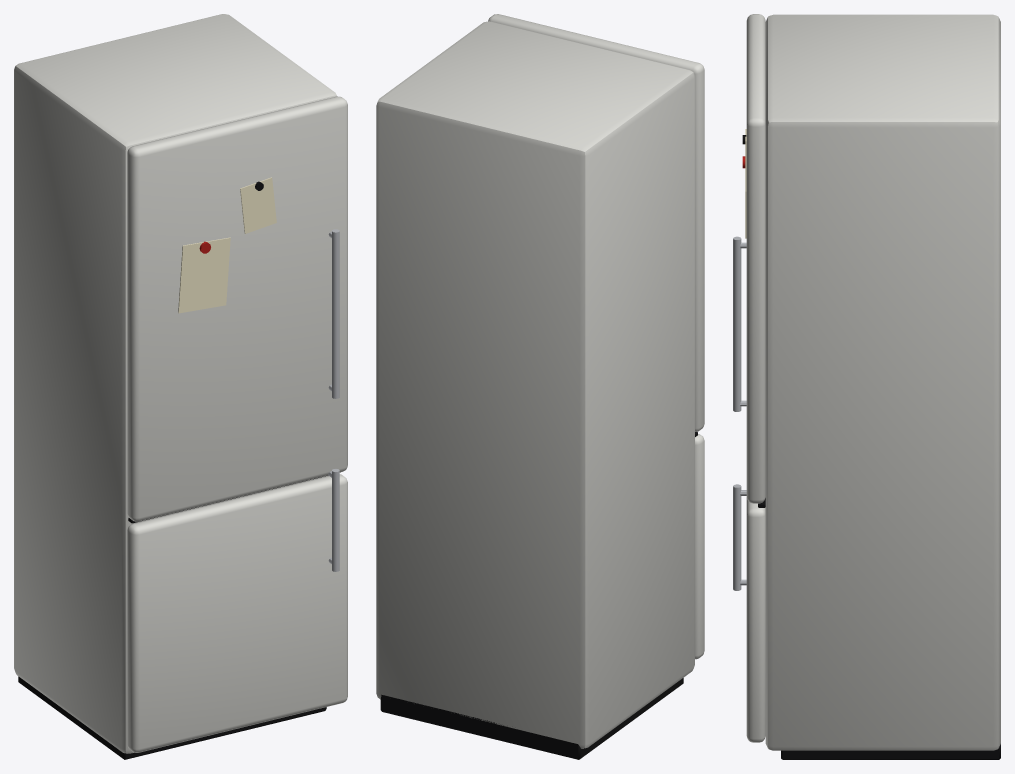
The model's file is fridge.glb.
The picture shows the model from 3 angles, left to right: view 1: azimuth 30°, elevation 25°; view 2: azimuth 150°, elevation 25°; view 3: azimuth 270°, elevation 25°; orthographic projection. The views are drawn at different scales.
Parts seen in each view (by area): view 1: main__fridge__enamel_fridge, main__fridge__paper_note, main__fridge__metal_steel, main__fridge__plastic_dark; view 2: main__fridge__enamel_fridge, main__fridge__plastic_dark; view 3: main__fridge__enamel_fridge, main__fridge__metal_steel, main__fridge__plastic_dark.
Boxes of the visible parts, x1,y1,x2,y2 form: main__fridge__enamel_fridge: [14, 14, 347, 753]; main__fridge__paper_note: [178, 177, 276, 313]; main__fridge__metal_steel: [328, 229, 339, 571]; main__fridge__plastic_dark: [18, 181, 340, 759]; main__fridge__enamel_fridge: [376, 14, 704, 748]; main__fridge__plastic_dark: [380, 432, 697, 759]; main__fridge__enamel_fridge: [746, 14, 1000, 750]; main__fridge__metal_steel: [733, 236, 746, 590]; main__fridge__plastic_dark: [742, 135, 1000, 759].
Bounding box in the file's own units: 0.68 × 1.87 × 0.706.
